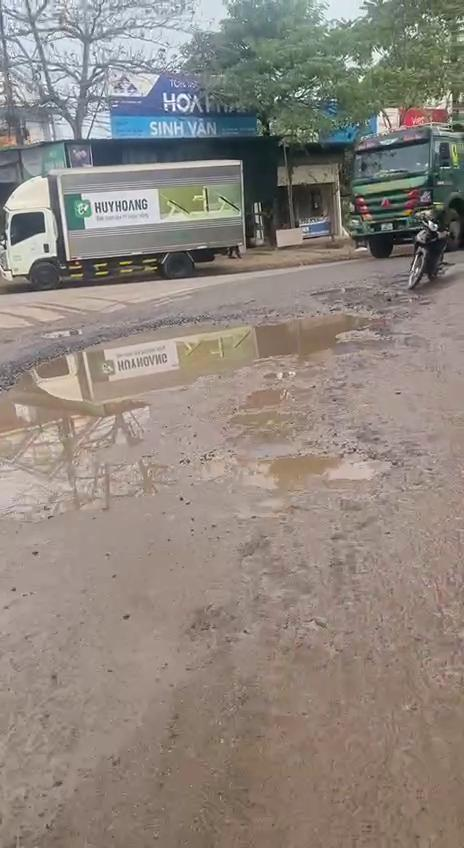pothole: (0, 300, 417, 496)
